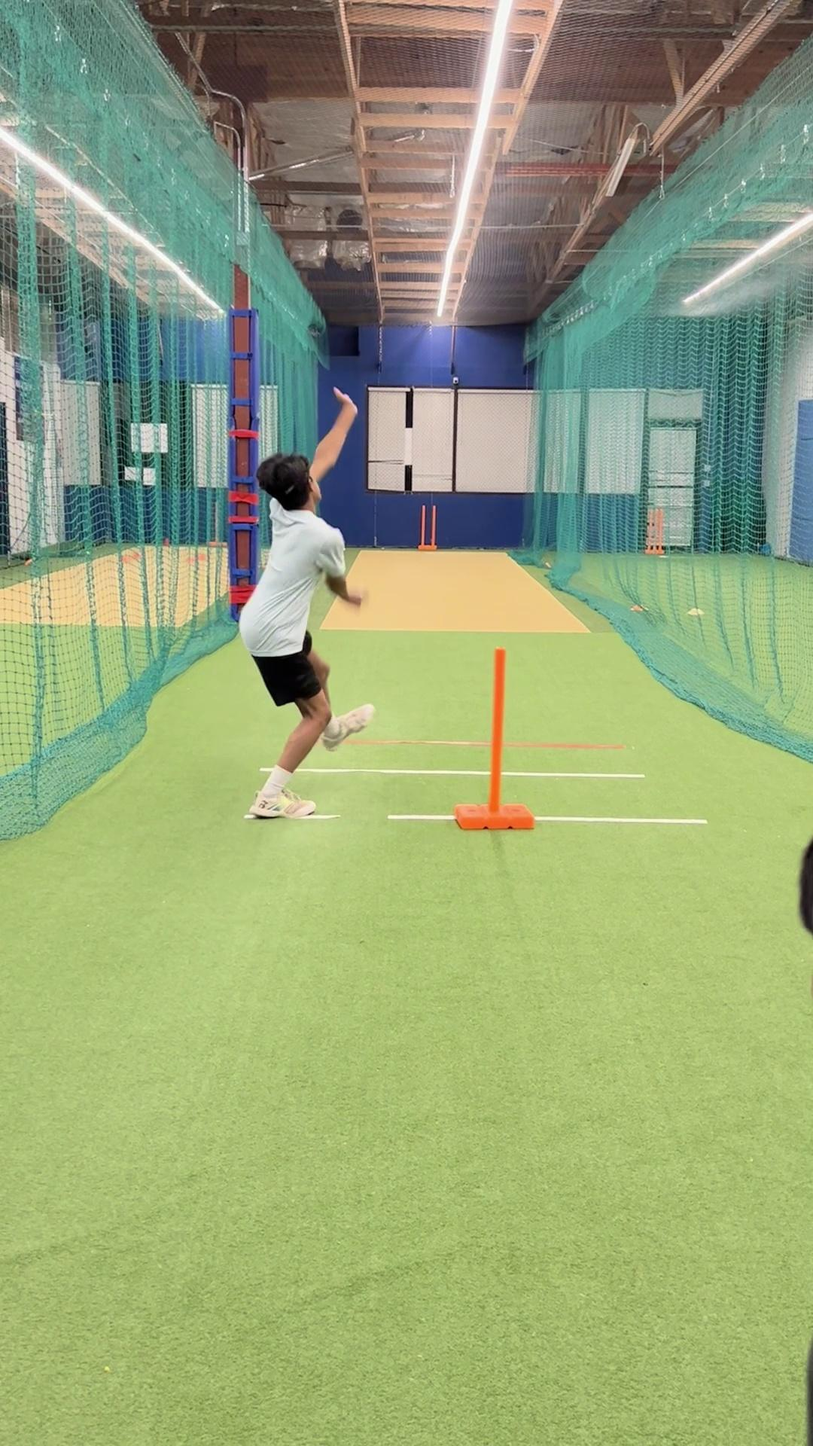ball: (348, 582, 374, 612)
